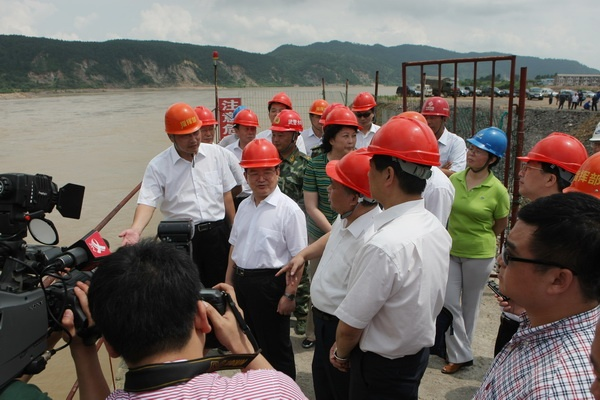blue: (465, 126, 507, 171)
none: (75, 237, 222, 370), (488, 190, 600, 317)
red: (367, 115, 435, 204), (515, 128, 588, 190), (322, 148, 380, 216), (238, 137, 283, 195), (161, 101, 203, 156), (318, 109, 360, 156), (268, 108, 305, 151), (230, 109, 261, 145), (191, 105, 217, 146), (421, 96, 449, 132), (349, 90, 374, 127), (267, 93, 294, 122), (306, 98, 328, 132)
